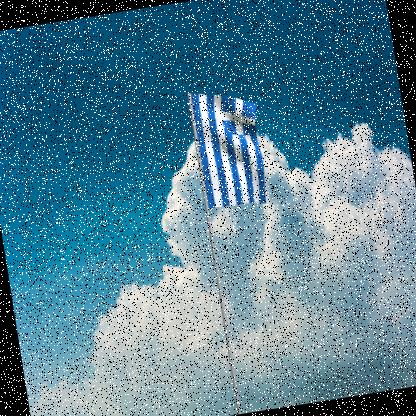gr: (192, 84, 274, 214)
